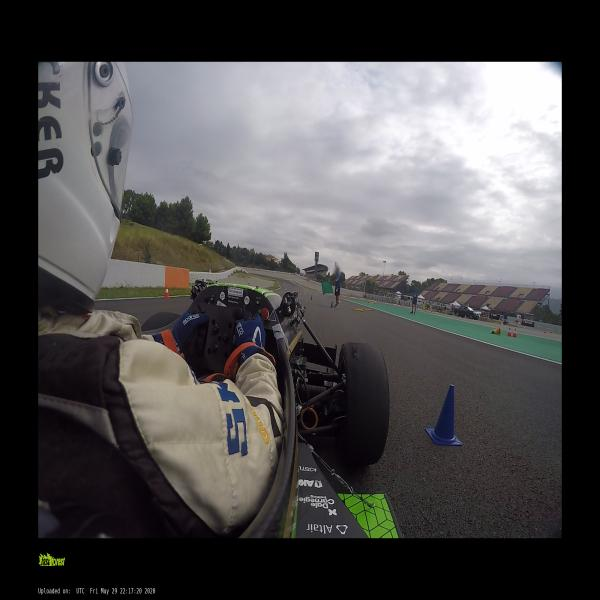blue_cone: (432, 384, 455, 442), (330, 301, 333, 307), (311, 295, 313, 300)
orange_cone: (163, 286, 169, 298), (507, 327, 512, 337), (513, 329, 517, 338)
yellow_cone: (490, 327, 498, 334)
